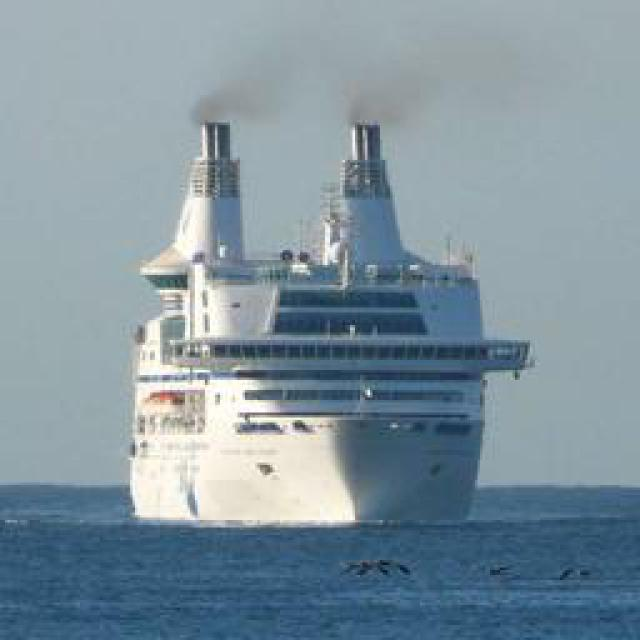Ship: (122, 114, 525, 529)
